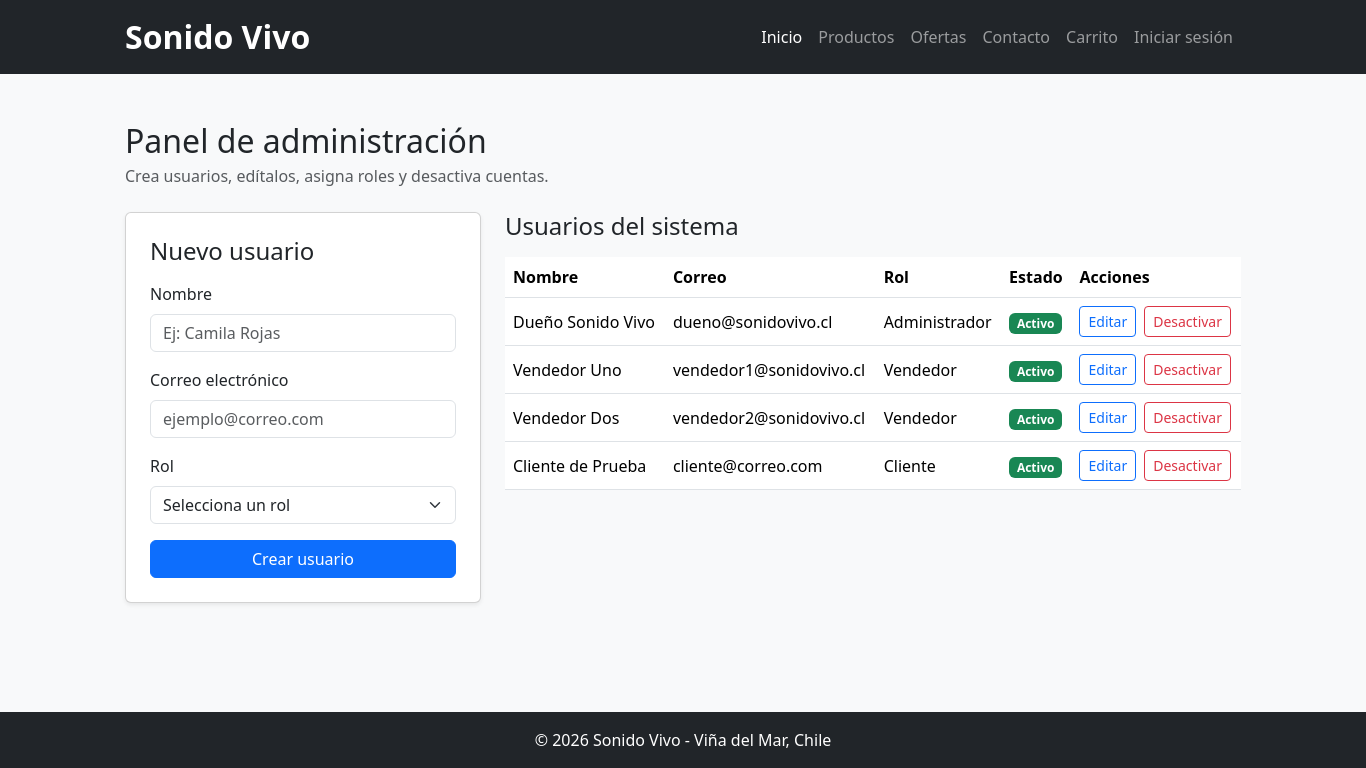
it: AdminUsersPage › carga el usuario en el formulario al presionar Editar y guarda los cambios
Click the button with aria-label "Editar a Vendedor Uno": (1108, 370) [1080,354,1136,385]
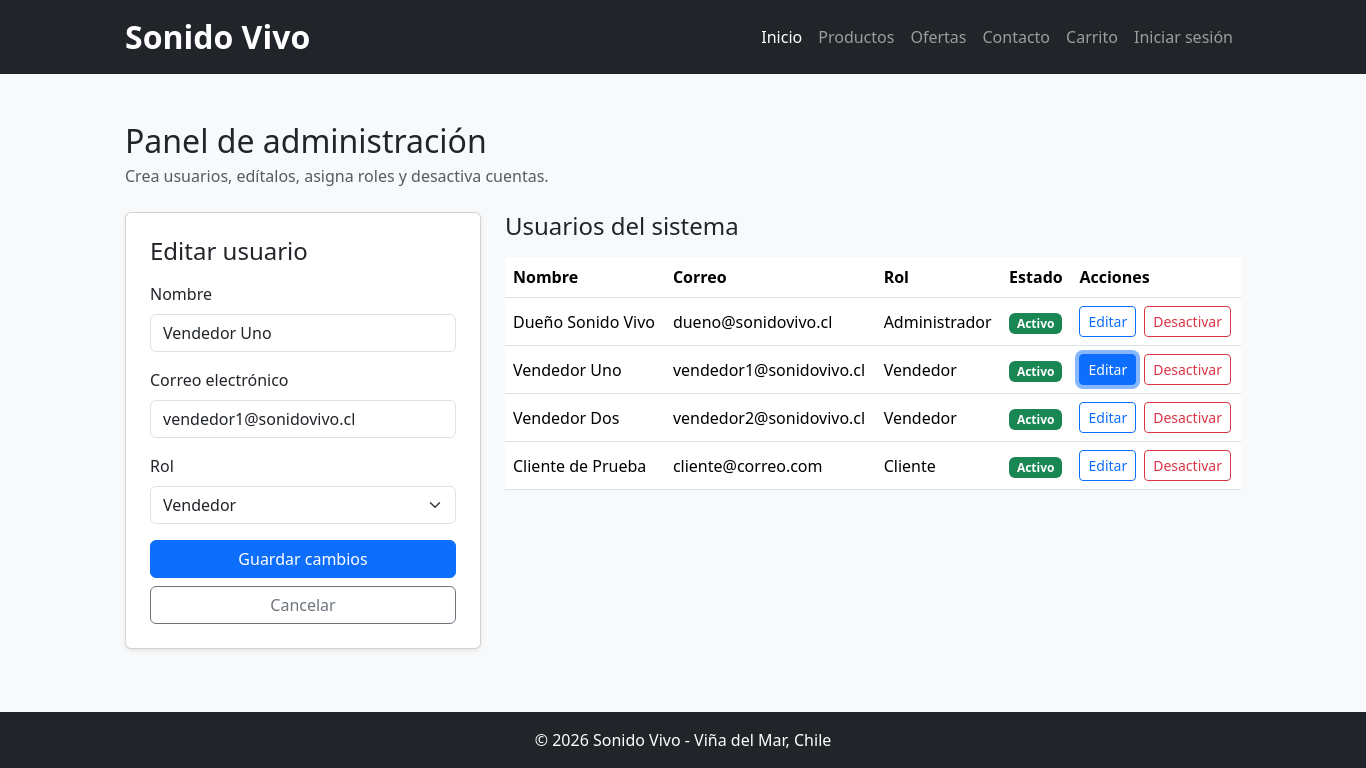
Result: the heading "Editar usuario" is shown at [150,234,308,267]
Result: the field labelled "Nombre" holds "Vendedor Uno"
Replace the text in the field labelled "Nombre" with "Vendedor Principal": (303, 333) [150,314,456,352]
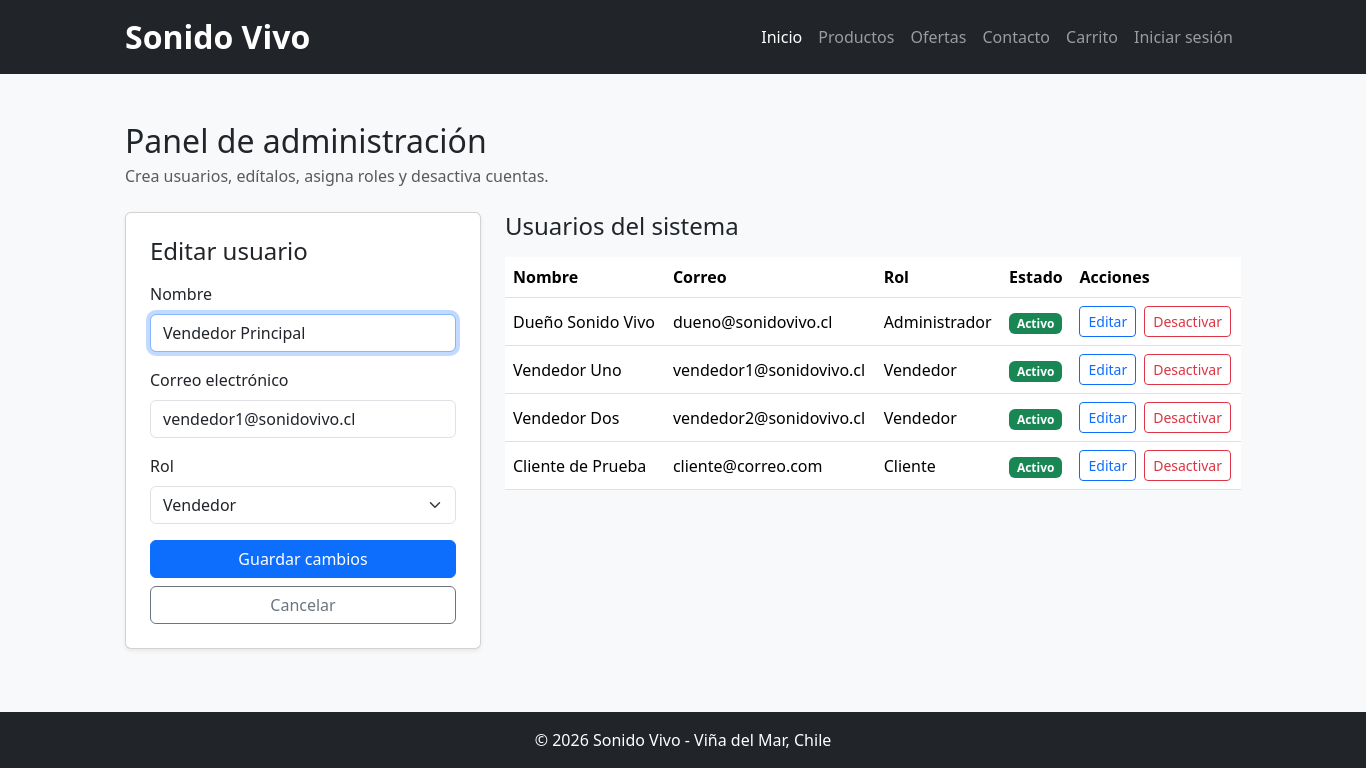
Click the button "Guardar cambios": (303, 559) [150,540,456,578]
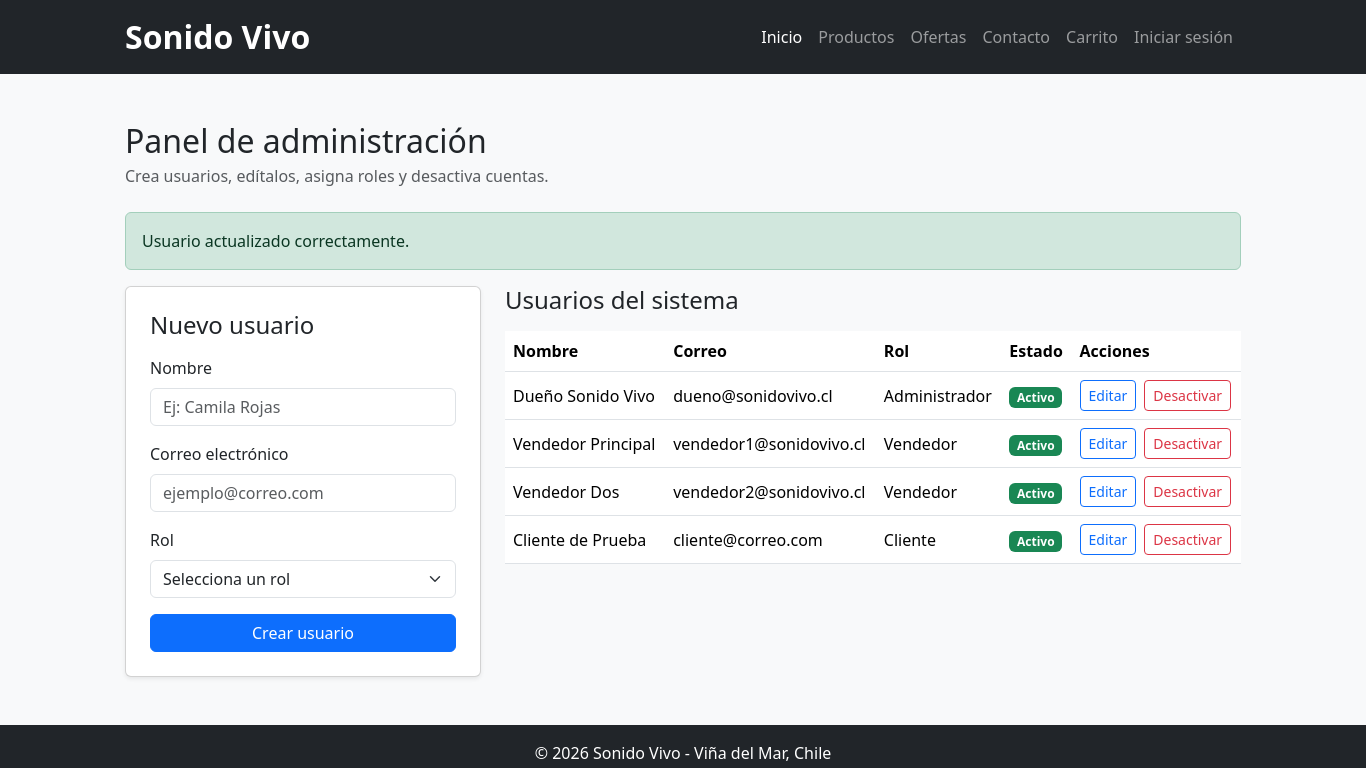
Result: the message reads "Usuario actualizado correctamente." at [142,230,409,252]
Result: the text "Vendedor Principal" is shown at [505,420,665,468]
Result: the heading "Nuevo usuario" is shown at [150,308,314,341]
